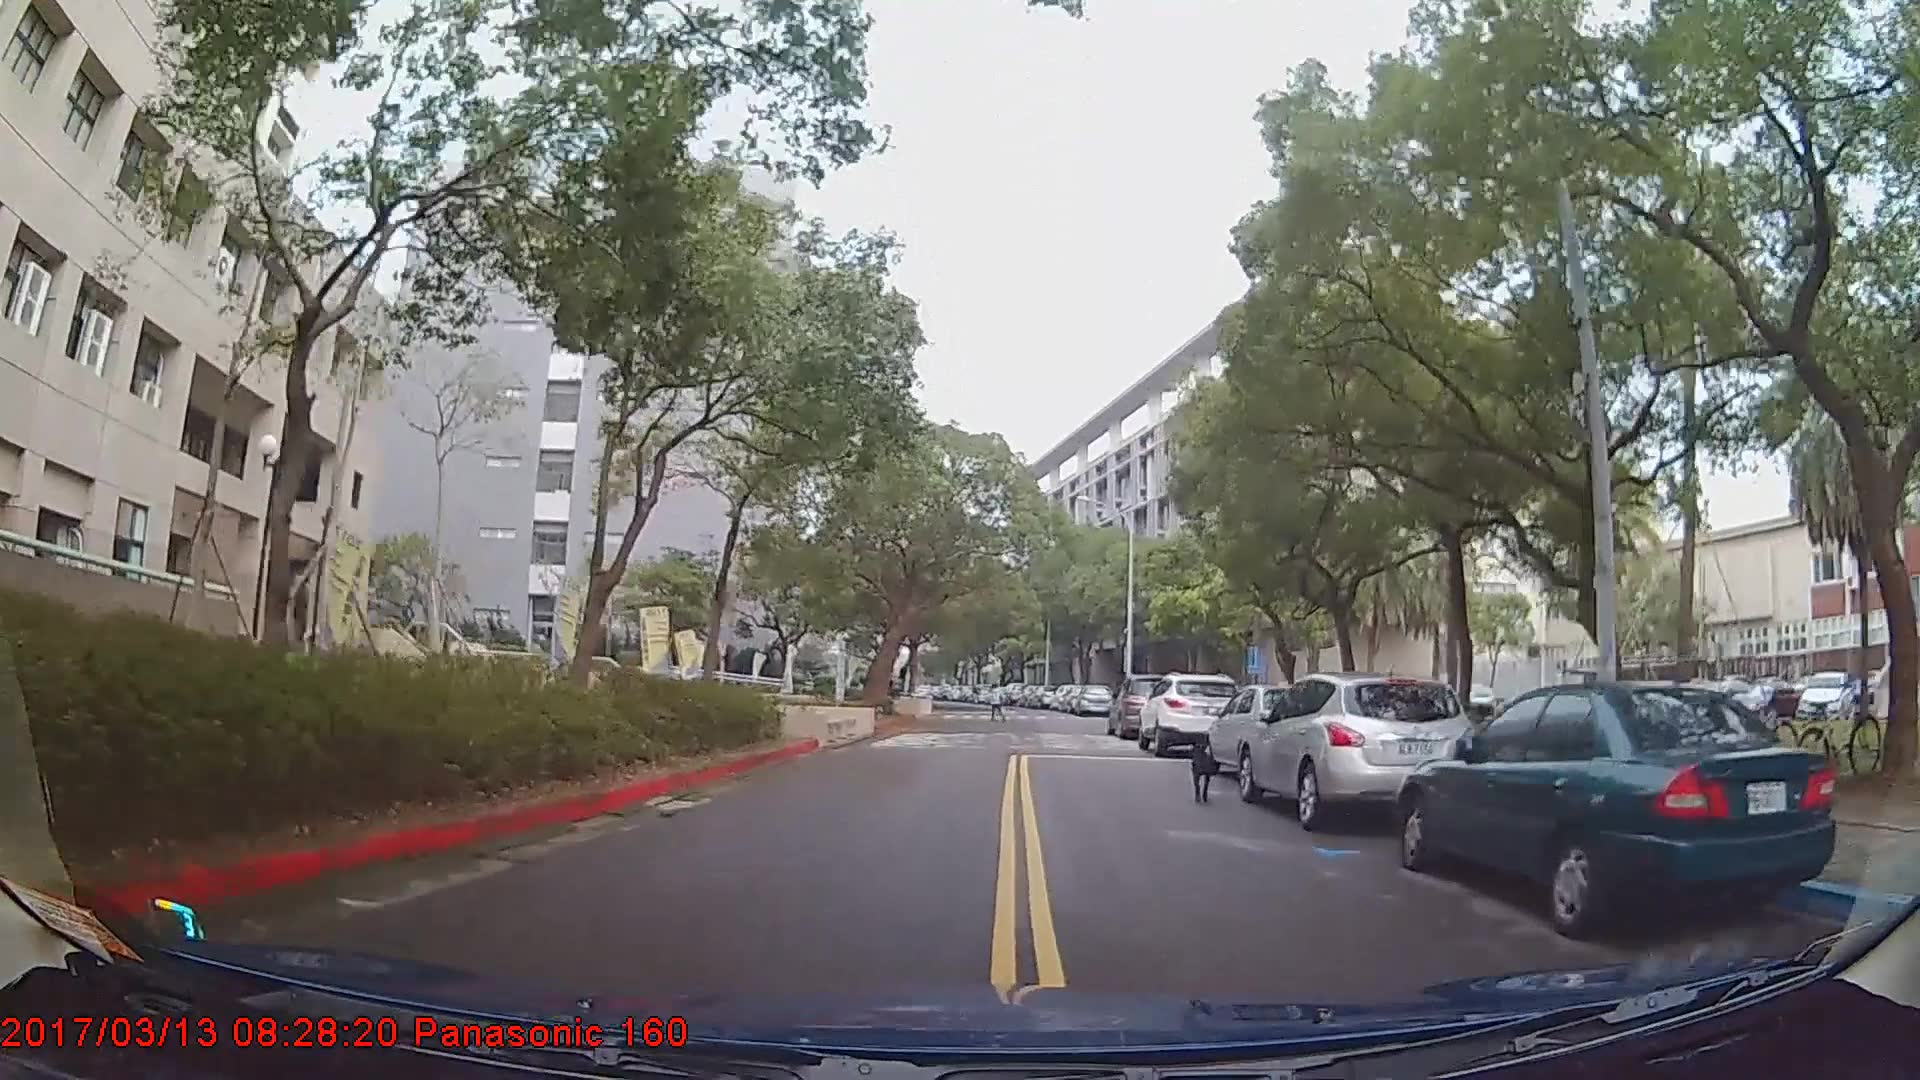pedestrian: (990, 687, 1010, 727)
vehicle: (1400, 681, 1838, 938), (1242, 671, 1482, 831), (1203, 680, 1341, 784), (1139, 672, 1246, 757), (1108, 673, 1189, 739), (1074, 684, 1116, 717)
